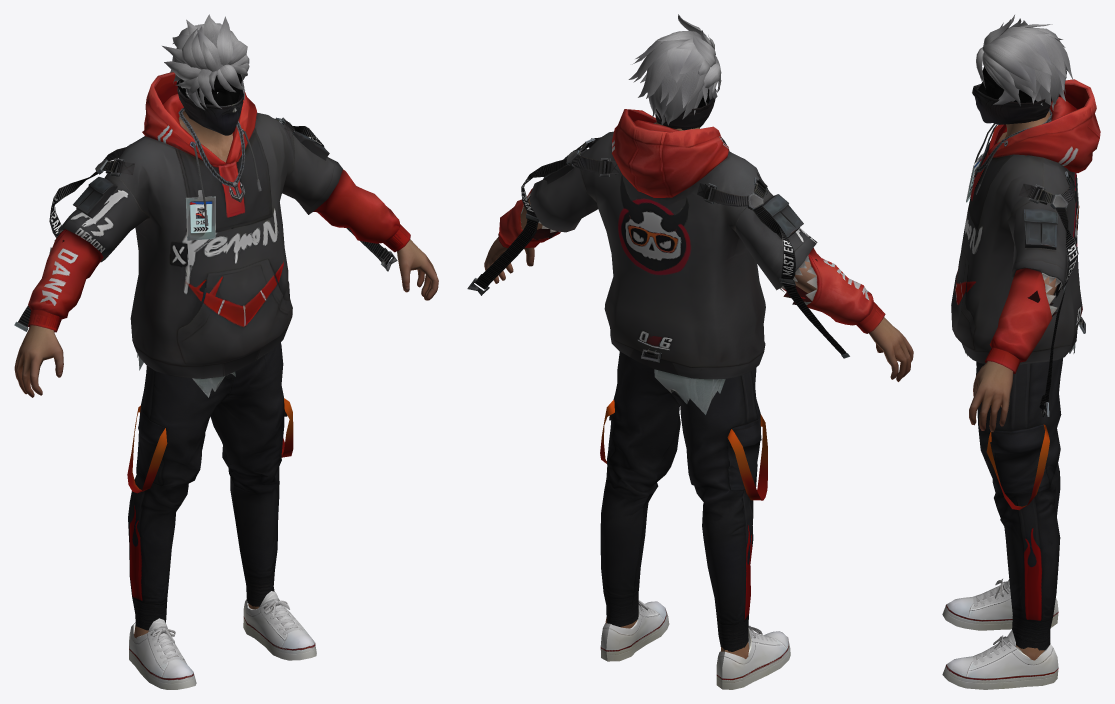
The model's file is durento.glb.
The picture shows the model from 3 angles, left to right: view 1: azimuth 30°, elevation 25°; view 2: azimuth 150°, elevation 25°; view 3: azimuth 270°, elevation 25°; orthographic projection.
Visible parts, largest first — view 1: durento; view 2: durento; view 3: durento.
Part boxes in pixels (bbox=[...]): durento: bbox=[14, 14, 438, 689]; durento: bbox=[467, 14, 913, 689]; durento: bbox=[942, 15, 1100, 689].
Bounding box in the file's own units: 0.6321 × 0.9265 × 0.2083.
7 materials, 7 textured.
